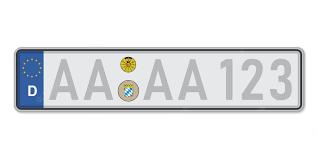1: (216, 58, 239, 100)
2: (238, 58, 267, 102)
3: (269, 58, 293, 101)
A: (81, 56, 112, 101), (49, 57, 80, 100), (176, 58, 207, 100), (145, 57, 174, 100)
